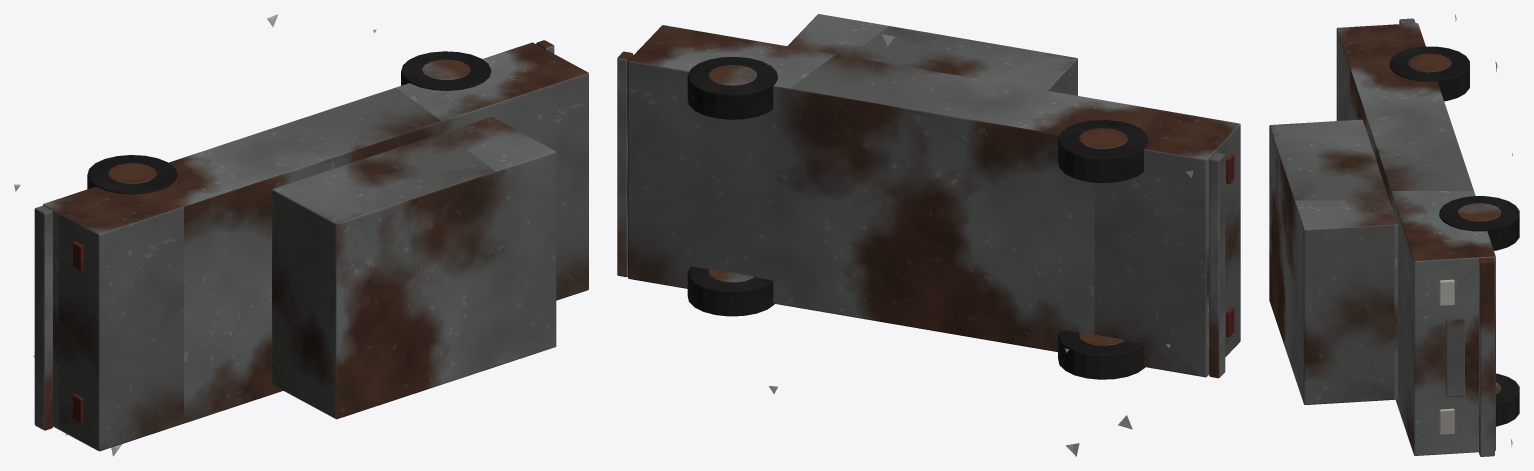
Rendered from JV03_overturned_car_v2.glb.
The picture shows the model from 3 angles, left to right: view 1: azimuth 30°, elevation 25°; view 2: azimuth 150°, elevation 25°; view 3: azimuth 270°, elevation 25°; orthographic projection. The views are drawn at different scales.
Visible parts, largest first — view 1: JV03_overturned_car_v2; view 2: JV03_overturned_car_v2; view 3: JV03_overturned_car_v2.
Part boxes in pixels (left/top/right/bottom): JV03_overturned_car_v2: left=14, top=14, right=588, bottom=456; JV03_overturned_car_v2: left=617, top=14, right=1240, bottom=456; JV03_overturned_car_v2: left=1269, top=14, right=1519, bottom=456.
Bounding box in the file's own units: 4.4 × 2.93 × 1.91.
Materials: 6 (6 with a texture image).
